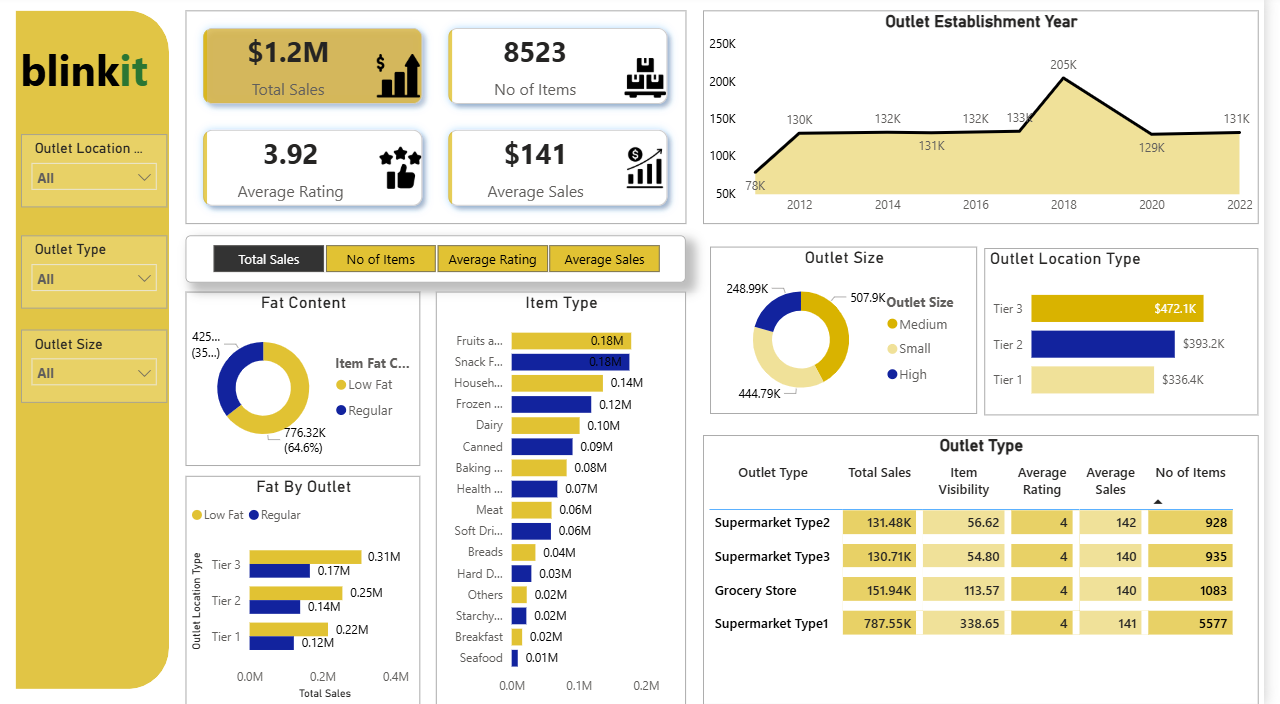

This screenshot's page, from the dashboard's own definition file:
{"tool":"powerbi","page":{"name":"Page 1","canvas":[1280,720],"ordinal":0},"visuals":[{"type":"shape","box":[16.3,16.3,155.5,687.3],"z":0},{"type":"textbox","box":[16.3,41.5,139.2,75.5],"z":1000},{"type":"cardVisual","fields":{"Data":["Sum(BlinkIT Grocery Data.Sales)","BlinkIT Grocery Data.No of Items","Avg(BlinkIT Grocery Data.Rating)","Avg(BlinkIT Grocery Data.Sales)"]},"box":[188,15.7,507,216.5],"z":2000},{"type":"donutChart","title":"Fat Content","fields":{"Y":["BlinkIT Grocery Data.Total Sales"],"Category":["BlinkIT Grocery Data.Item Fat Content"]},"box":[188,300.5,237.8,176.6],"z":3000},{"type":"slicer","fields":{"Values":["Parameter.Parameter"]},"box":[188.1,242.9,506.6,47.4],"z":4000},{"type":"clusteredBarChart","title":"Fat By Outlet","fields":{"Category":["BlinkIT Grocery Data.Outlet Location Type"],"Series":["BlinkIT Grocery Data.Item Fat Content"],"Y":["BlinkIT Grocery Data.Total Sales"]},"box":[188,487,237.8,232.1],"z":5000},{"type":"clusteredBarChart","title":"Item Type","fields":{"Category":["BlinkIT Grocery Data.Item Type"],"Y":["BlinkIT Grocery Data.Total Sales"]},"box":[441.4,300.5,253.5,418.7],"z":6000},{"type":"lineChart","title":" Outlet Establishment Year","fields":{"Y":["BlinkIT Grocery Data.Total Sales"],"Category":["BlinkIT Grocery Data.Outlet Establishment Year"]},"box":[712,15.7,562.5,216.5],"z":7000},{"type":"donutChart","title":"Outlet Size","fields":{"Y":["BlinkIT Grocery Data.Total Sales"],"Category":["BlinkIT Grocery Data.Outlet Size"]},"box":[719.1,254.9,270.6,169.5],"z":8000},{"type":"barChart","title":" Outlet Location Type","fields":{"Y":["Sum(BlinkIT Grocery Data.Sales)"],"Category":["BlinkIT Grocery Data.Outlet Location Type"]},"box":[996.8,256.3,277.7,169.5],"z":9000},{"type":"tableEx","title":"Outlet Type","fields":{"Values":["BlinkIT Grocery Data.Outlet Type","BlinkIT Grocery Data.Total Sales","Sum(BlinkIT Grocery Data.Item Visibility)","BlinkIT Grocery Data.Average Rating","BlinkIT Grocery Data.Average Sales","BlinkIT Grocery Data.No of Items"]},"box":[712,445.7,562.5,273.4],"z":10000},{"type":"slicer","fields":{"Values":["BlinkIT Grocery Data.Outlet Location Type"]},"box":[20.7,140.7,148.1,74.1],"z":11000},{"type":"slicer","fields":{"Values":["BlinkIT Grocery Data.Outlet Type"]},"box":[20.7,242.9,148.1,74.1],"z":12000},{"type":"slicer","fields":{"Values":["BlinkIT Grocery Data.Outlet Size"]},"box":[20.7,339.2,148.1,74.1],"z":13000}]}

Visuals, with their boxes in screenshot pixels (x1, y1, x2, y2), scaled from the page's 1280x720 canvas onto the 1280x704 screenshot:
shape: bbox=(16, 16, 172, 688)
textbox: bbox=(16, 41, 156, 114)
cardVisual - Sum(BlinkIT Grocery Data.Sales) x BlinkIT Grocery Data.No of Items: bbox=(188, 15, 695, 227)
"Fat Content" donutChart: bbox=(188, 294, 426, 466)
slicer - Parameter.Parameter: bbox=(188, 238, 695, 284)
"Fat By Outlet" clusteredBarChart: bbox=(188, 476, 426, 703)
"Item Type" clusteredBarChart: bbox=(441, 294, 695, 703)
" Outlet Establishment Year" lineChart: bbox=(712, 15, 1274, 227)
"Outlet Size" donutChart: bbox=(719, 249, 990, 415)
" Outlet Location Type" barChart: bbox=(997, 251, 1274, 416)
"Outlet Type" tableEx: bbox=(712, 436, 1274, 703)
slicer - BlinkIT Grocery Data.Outlet Location Type: bbox=(21, 138, 169, 210)
slicer - BlinkIT Grocery Data.Outlet Type: bbox=(21, 238, 169, 310)
slicer - BlinkIT Grocery Data.Outlet Size: bbox=(21, 332, 169, 404)
